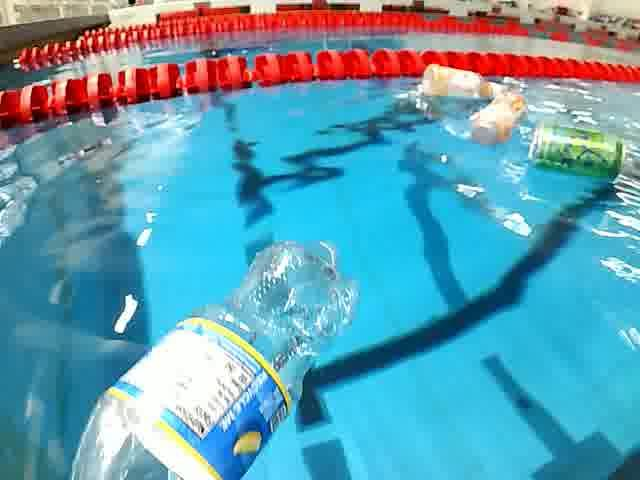Bottle: (70, 229, 365, 480), (414, 64, 510, 102), (466, 92, 532, 144)
Can: (523, 118, 629, 182)
